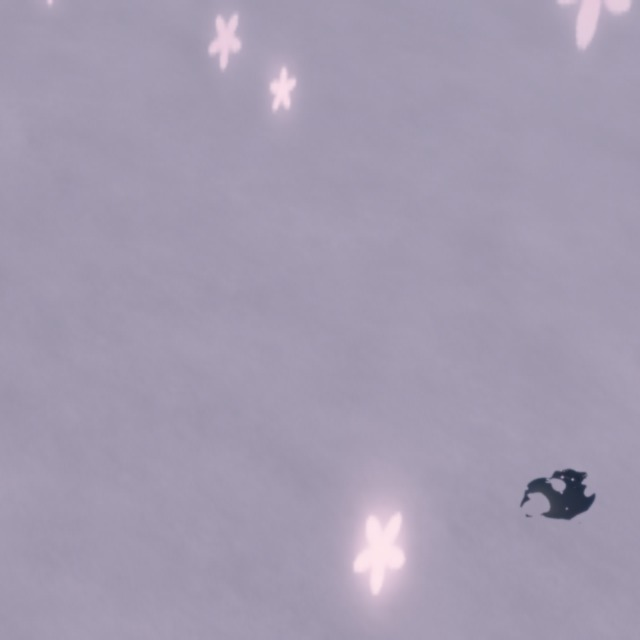urso_preto: (509, 461, 608, 531)
